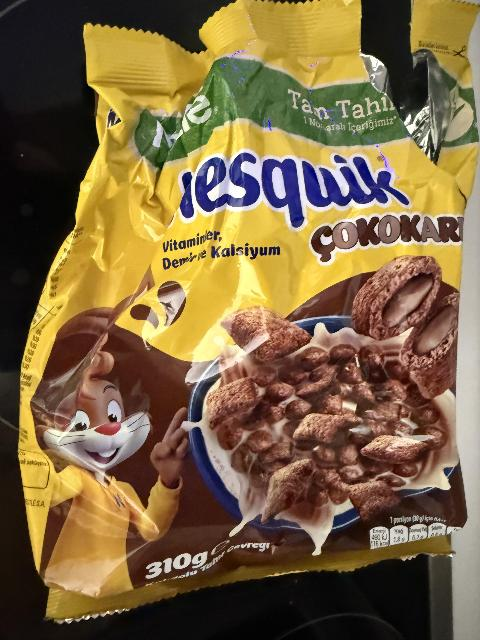Plastik: (22, 5, 480, 621)
